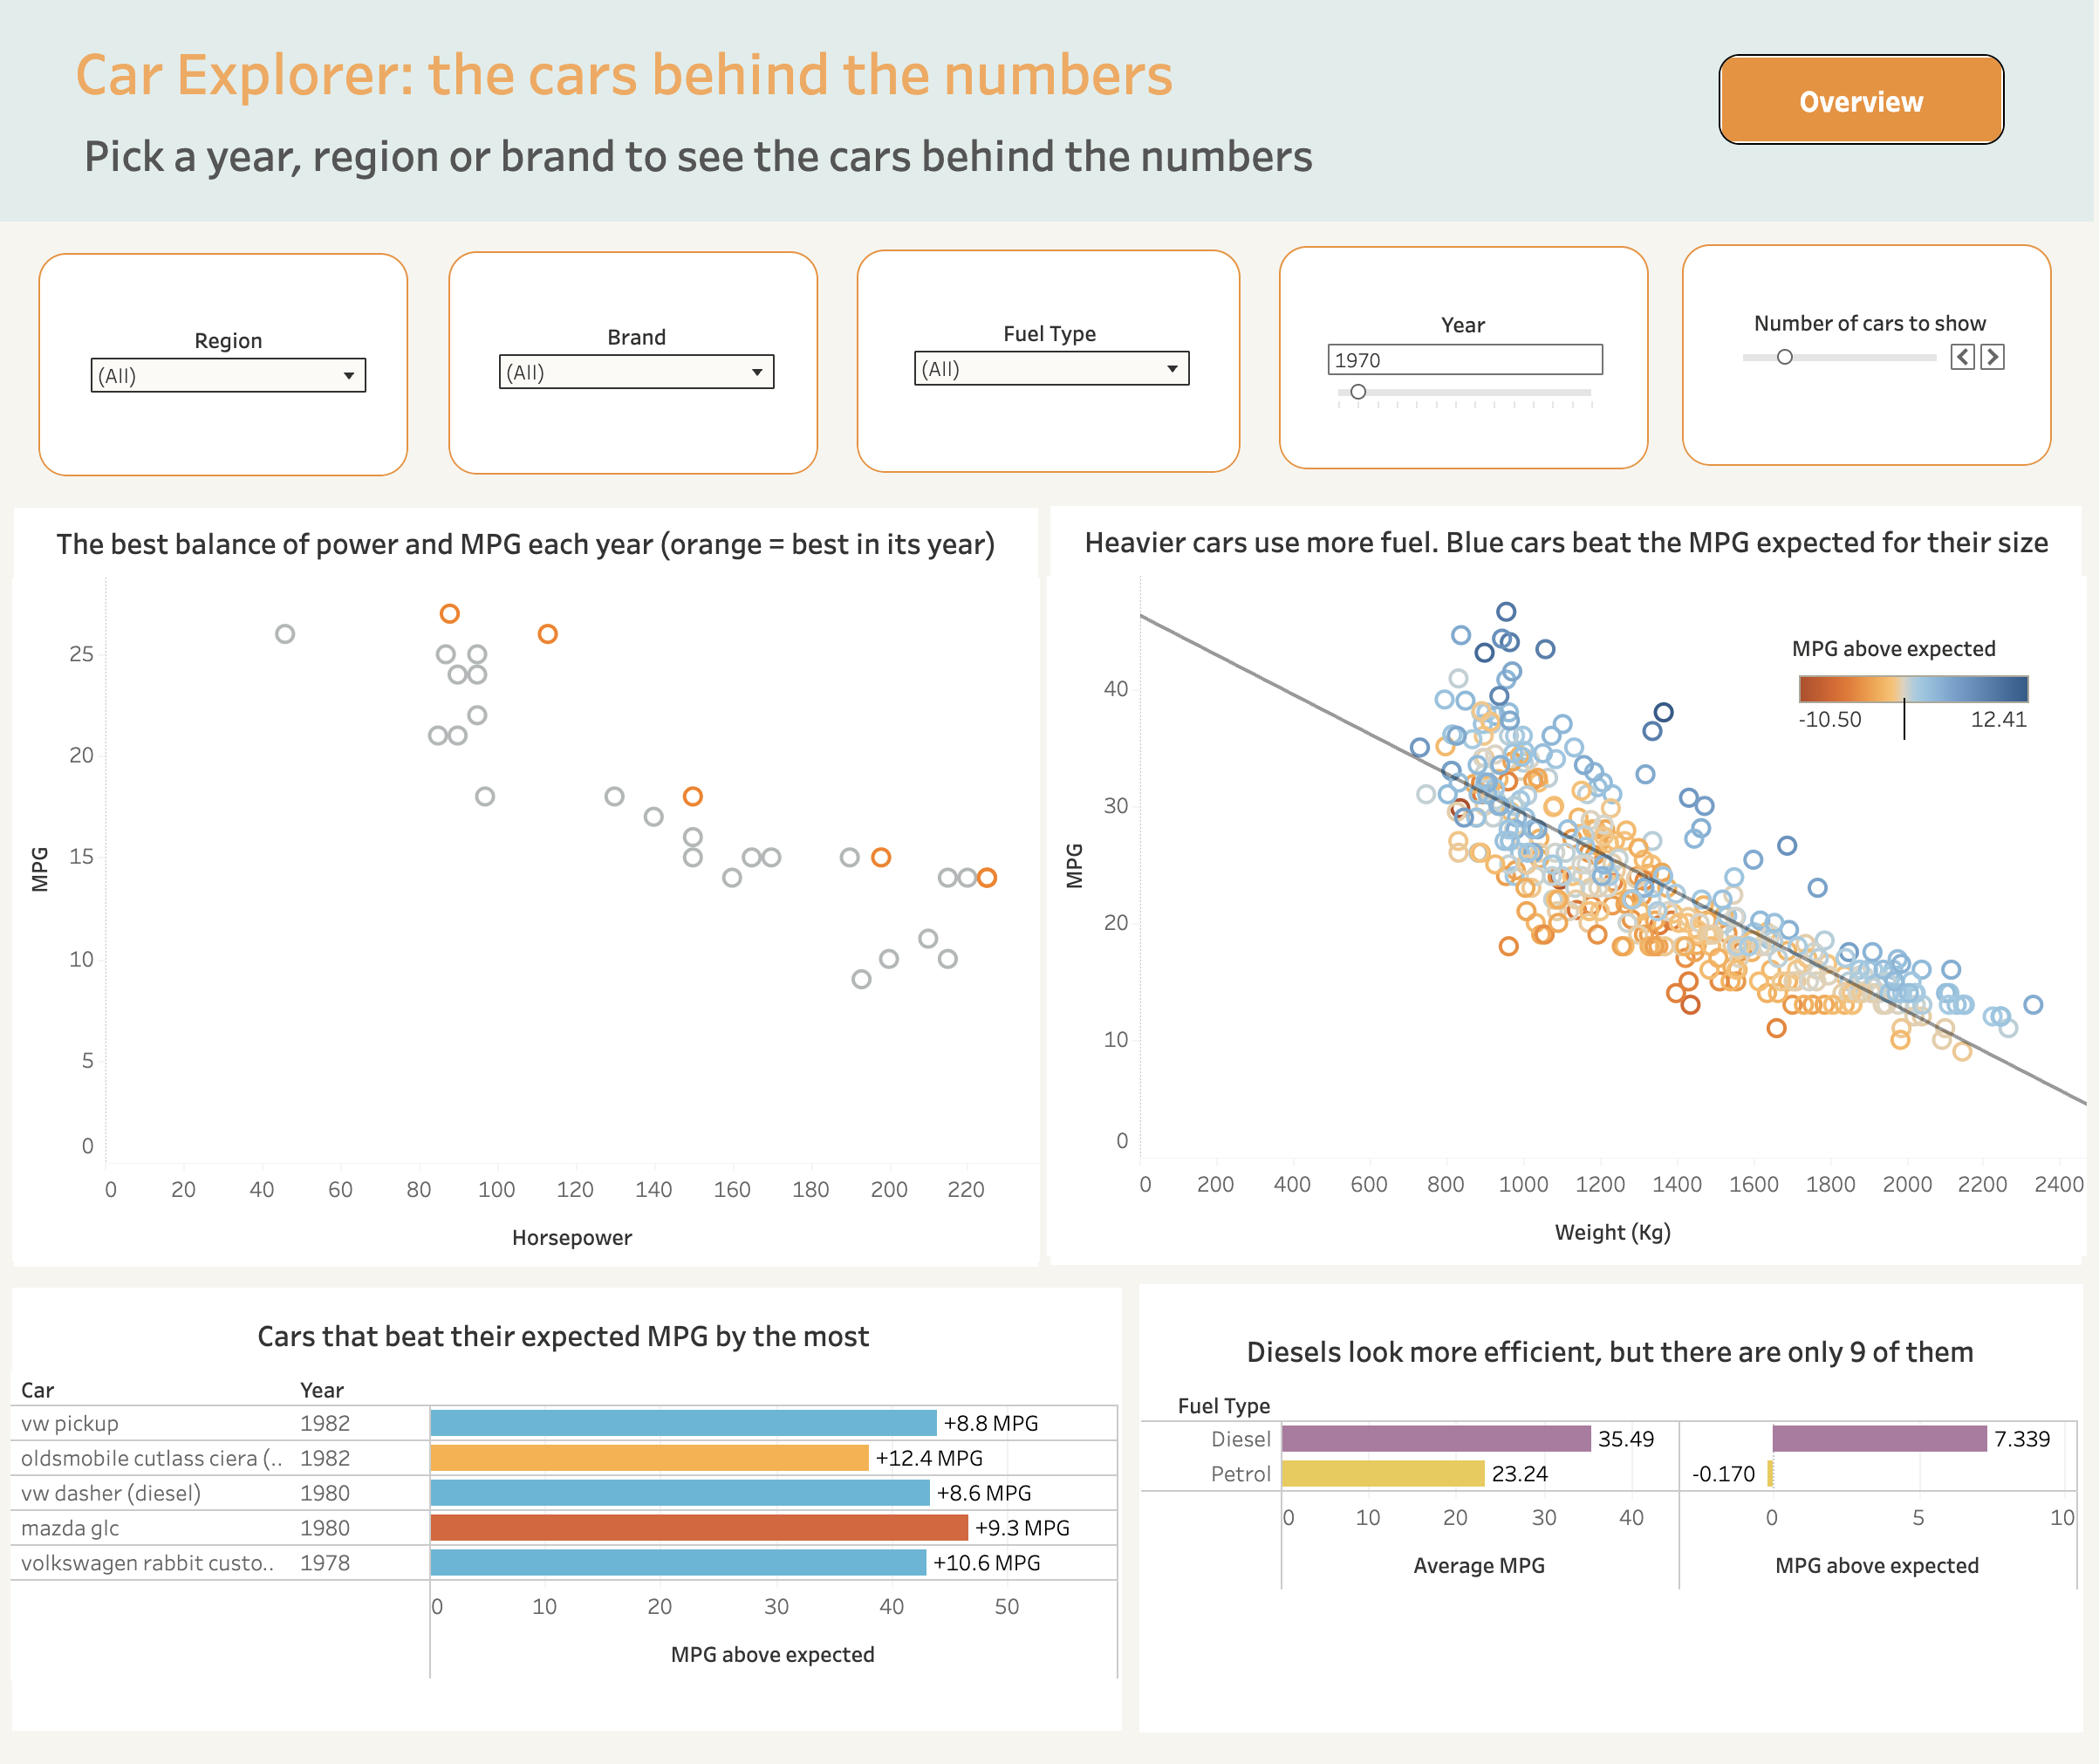

Layout of this report page (visuals, bound fields, positions):
{"tool":"tableau","page":{"name":"Car Explorer","canvas":[1200,1000],"ordinal":0},"visuals":[{"type":"dashboard-object","box":[985,34,164,52]},{"type":"blank","box":[964,143,212,127]},{"type":"blank","box":[733,144,212,128]},{"type":"blank","box":[491,146,220,128]},{"type":"blank","box":[257,147,212,128]},{"type":"blank","box":[22,148,212,128]},{"type":"parameter","param":"[Parameters].[Parameter 0013664225984530]","box":[992,179,160,68]},{"type":"filter","title":"Frontier","param":"[federated.1mzey2f1rk8xc51ejm4r8129pq7d].[none:Calculation_0013664225431568:nk]","box":[760,180,160,68]},{"type":"filter","title":"Frontier","param":"[federated.1mzey2f1rk8xc51ejm4r8129pq7d].[none:Calculation_0013664225075212:nk]","box":[523,185,160,85]},{"type":"filter","title":"Frontier","param":"[federated.1mzey2f1rk8xc51ejm4r8129pq7d].[none:brand:nk]","box":[285,187,160,48]},{"type":"filter","title":"Frontier","param":"[federated.1mzey2f1rk8xc51ejm4r8129pq7d].[none:origin:nk]","box":[51,189,160,105]},{"type":"blank","box":[602,293,591,435]},{"type":"blank","box":[8,294,587,435]},{"type":"worksheet","title":"Weight vs MPG","mark":"Automatic","rows":["mpg"],"cols":["weight_kg"],"box":[600,295,596,428]},{"type":"worksheet","title":"Frontier","mark":"Automatic","rows":["mpg"],"cols":["horsepower"],"box":[7,296,589,430]},{"type":"legend","title":"Weight vs MPG","param":"[federated.1mzey2f1rk8xc51ejm4r8129pq7d].[sum:efficiency_gap:qk]","box":[1027,366,140,80]},{"type":"blank","box":[653,739,541,257]},{"type":"blank","box":[7,741,636,254]},{"type":"worksheet","title":"Standout cars","mark":"Bar","rows":["car_id","name","year"],"cols":["mpg"],"box":[6,750,635,253]},{"type":"worksheet","title":"Fuel Type","mark":"Automatic","rows":["Calculation_0013664225075212"],"cols":["mpg","efficiency_gap"],"box":[654,759,538,207]}]}

Visuals, with their boxes in screenshot pixels (x1, y1, x2, y2), scaled from the page's 1200x1000 canvas onto the 2099x1764 screenshot:
dashboard-object: rect(1723, 60, 2010, 152)
blank: rect(1686, 252, 2057, 476)
blank: rect(1282, 254, 1653, 480)
blank: rect(858, 257, 1244, 483)
blank: rect(449, 259, 820, 485)
blank: rect(38, 261, 409, 487)
parameter: rect(1735, 316, 2015, 435)
"Frontier" filter: rect(1330, 318, 1610, 437)
"Frontier" filter: rect(915, 326, 1194, 476)
"Frontier" filter: rect(498, 330, 778, 414)
"Frontier" filter: rect(89, 333, 369, 518)
blank: rect(1053, 516, 2087, 1284)
blank: rect(14, 518, 1041, 1286)
"Weight vs MPG" worksheet: rect(1049, 520, 2092, 1275)
"Frontier" worksheet: rect(12, 523, 1043, 1281)
"Weight vs MPG" legend: rect(1796, 646, 2041, 787)
blank: rect(1142, 1303, 2089, 1757)
blank: rect(12, 1307, 1125, 1755)
"Standout cars" worksheet (Bar marks): rect(10, 1323, 1121, 1763)
"Fuel Type" worksheet: rect(1144, 1339, 2085, 1704)
